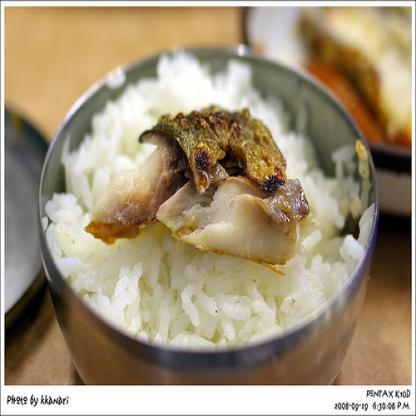Peixe: (117, 100, 306, 266)
